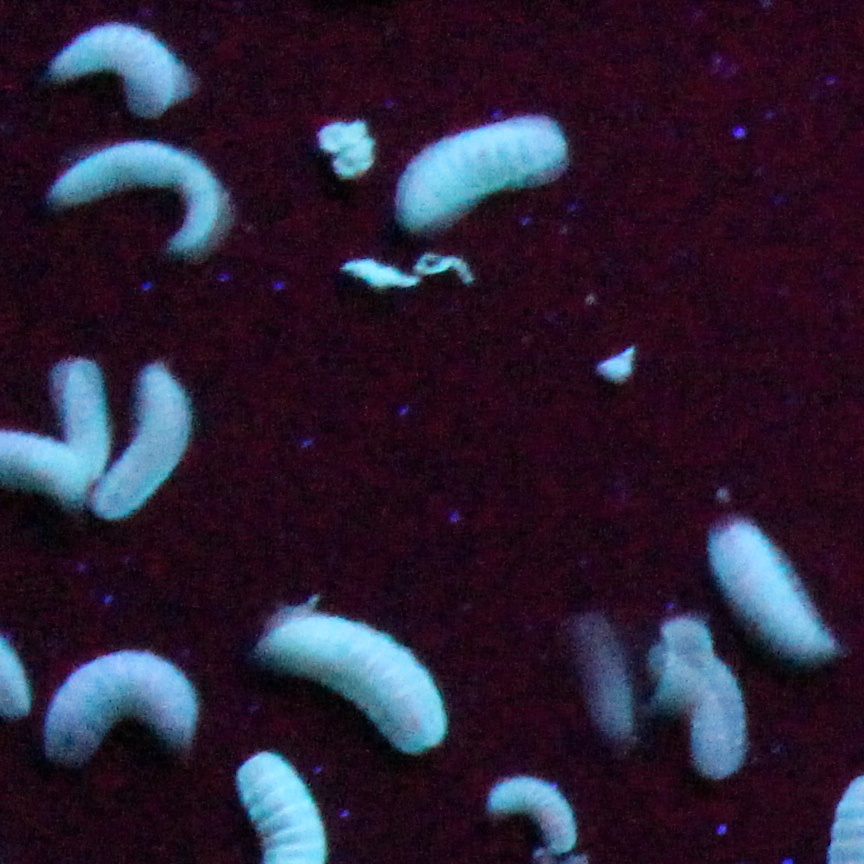larve: (48, 133, 226, 260), (282, 621, 442, 754), (702, 508, 828, 674), (44, 644, 202, 760), (408, 108, 562, 221), (42, 11, 186, 115), (655, 620, 746, 780), (96, 377, 183, 519), (486, 775, 577, 853)
